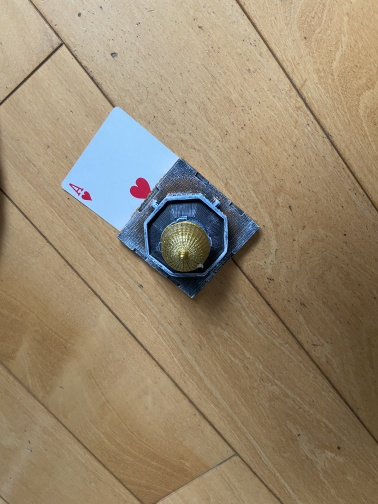ace: (60, 104, 206, 251)
